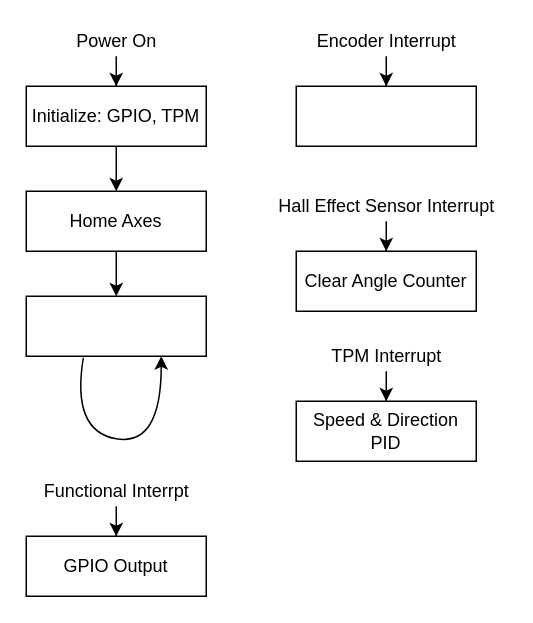
This 533x623 diagram has some shape labels left out. Each missing label, with the box of its shape:
Increment/Decrement Angle: (295, 85, 476, 146)
PID Control Loop: (25, 295, 206, 356)
